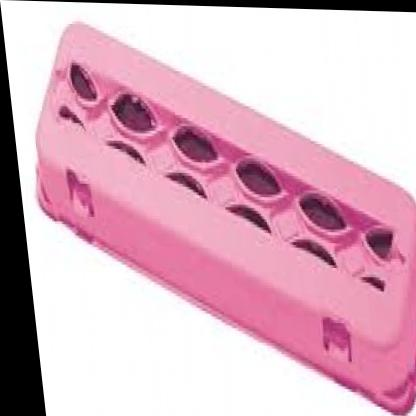Paper: (2, 19, 416, 414)
